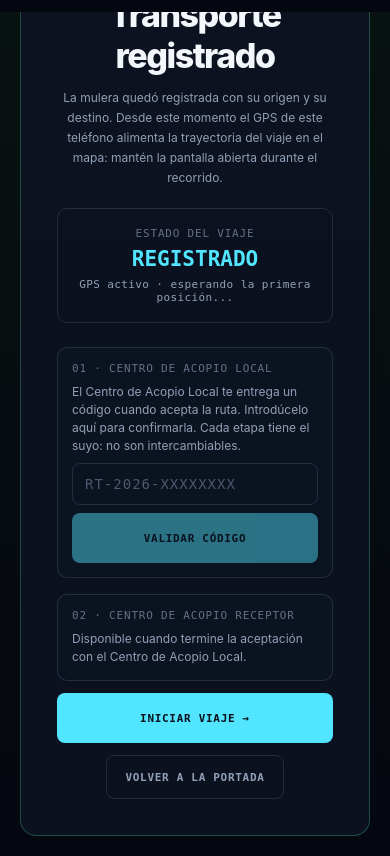
INICIAR VIAJE y YA LLEGUÉ mueven el estado; al llegar el GPS se detiene
(page scrolled)
Click the button with test id "journey-start" at (195, 718), box x1=57 y1=693 x2=333 y2=743
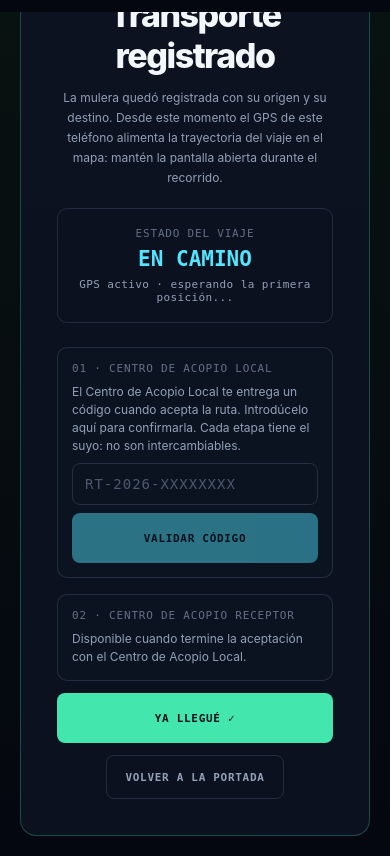
Expected: the text with test id "journey-status" reads "EN CAMINO", x1=138 y1=247 x2=252 y2=271
Click the button with test id "journey-arrive" at (195, 718), box x1=57 y1=693 x2=333 y2=743
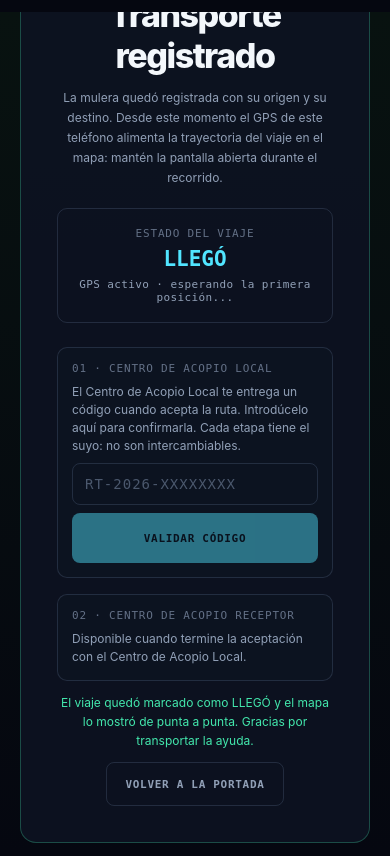
Expected: the text with test id "journey-status" reads "LLEGÓ", x1=163 y1=247 x2=227 y2=271
Expected: the text with test id "journey-arrived-note" is shown, x1=57 y1=693 x2=333 y2=750
